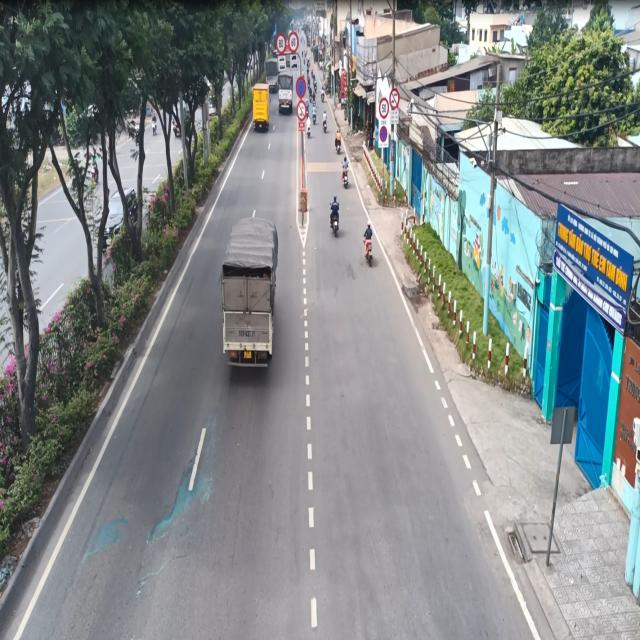motor: (250, 78, 269, 135), (276, 65, 296, 119), (360, 219, 381, 270), (326, 190, 341, 236), (342, 155, 354, 192)
truck: (218, 203, 280, 385)
